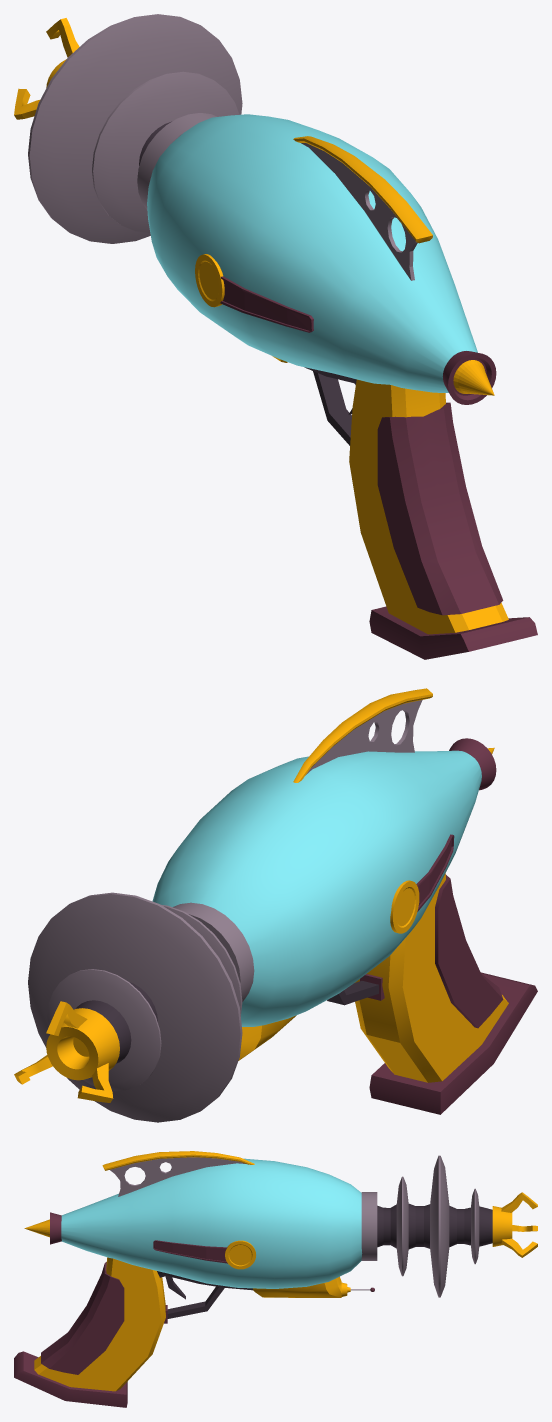
The model's file is space_gun.glb.
3 renders of one model, top to bottom at view 1: azimuth 30°, elevation 25°; view 2: azimuth 150°, elevation 25°; view 3: azimuth 270°, elevation 25°, orthographic. The views are drawn at different scales.
Visible parts, largest first — view 1: Gun; view 2: Gun; view 3: Gun.
Boxes of the visible parts, x1,y1,x2,y2 form: Gun: [14, 14, 537, 659]; Gun: [14, 688, 537, 1122]; Gun: [14, 1151, 537, 1407].
Size of the model in its own units: 0.1762 by 0.3378 by 0.65.
